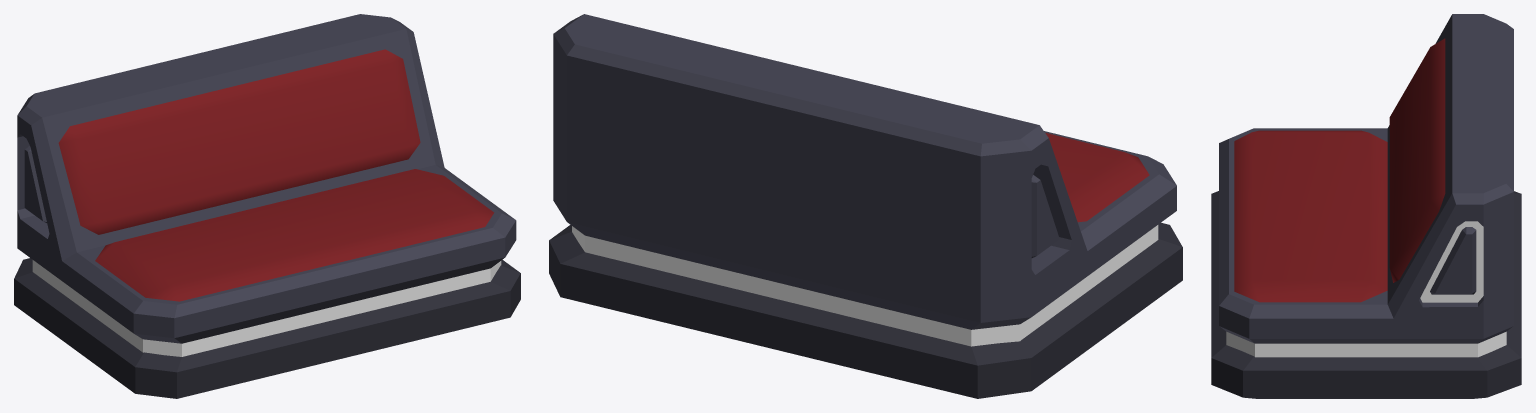
The model's file is Sofa 01.fbx.
The picture shows the model from 3 angles, left to right: view 1: azimuth 30°, elevation 25°; view 2: azimuth 150°, elevation 25°; view 3: azimuth 270°, elevation 25°; orthographic projection. The views are drawn at different scales.
Parts seen in each view (by area): view 1: Sofa_01; view 2: Sofa_01; view 3: Sofa_01.
Part boxes in pixels (x1,y1,x2,y2): Sofa_01: [14, 14, 520, 398]; Sofa_01: [549, 14, 1182, 398]; Sofa_01: [1211, 14, 1521, 398].
Bounding box in the file's own units: 166 × 84.74 × 115.
